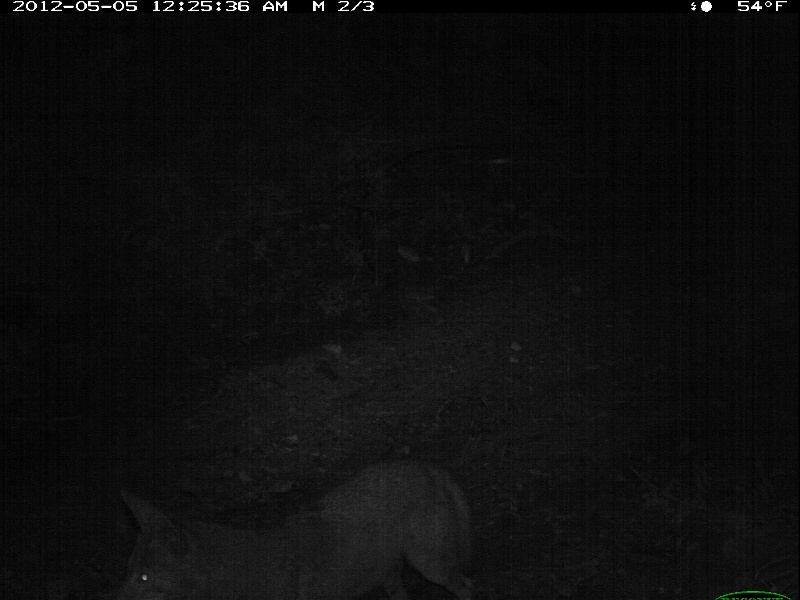coyote: (103, 460, 481, 600)
